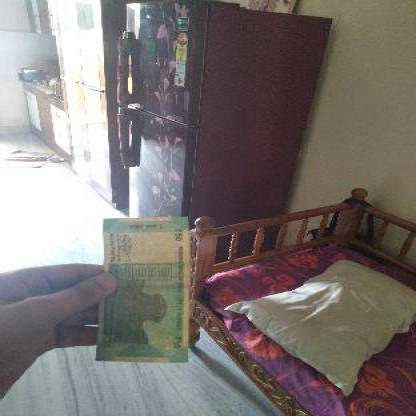New50Back: (97, 218, 191, 364)
